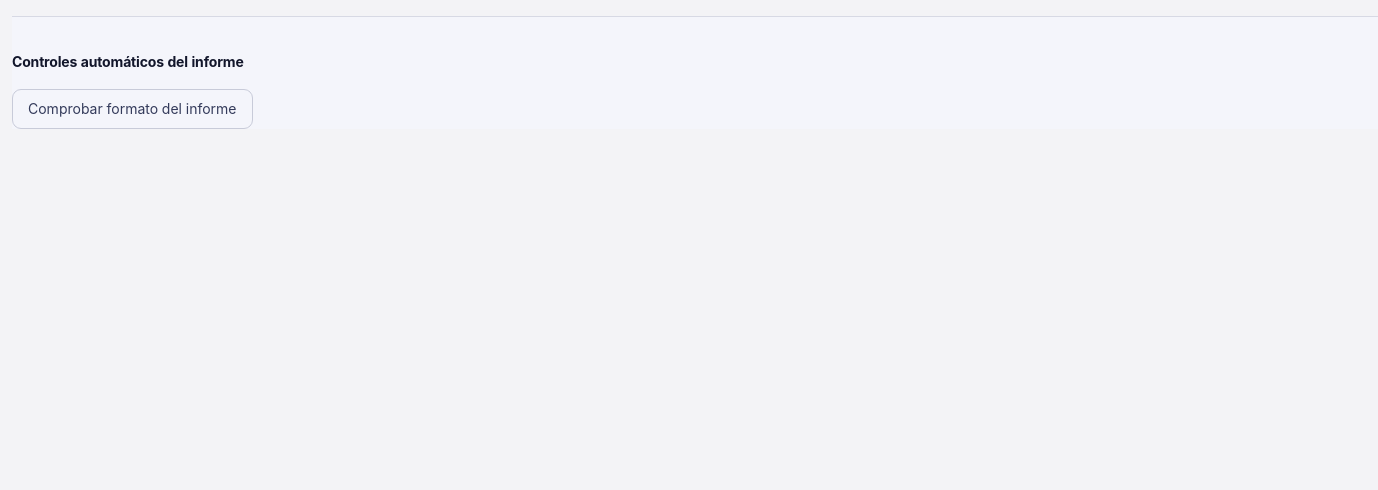
Test: documentary quality inspection › requires an explicit click and reads only the exact report endpoint
Click the button "Comprobar formato del informe" at [132, 109], box [12,89,252,129]
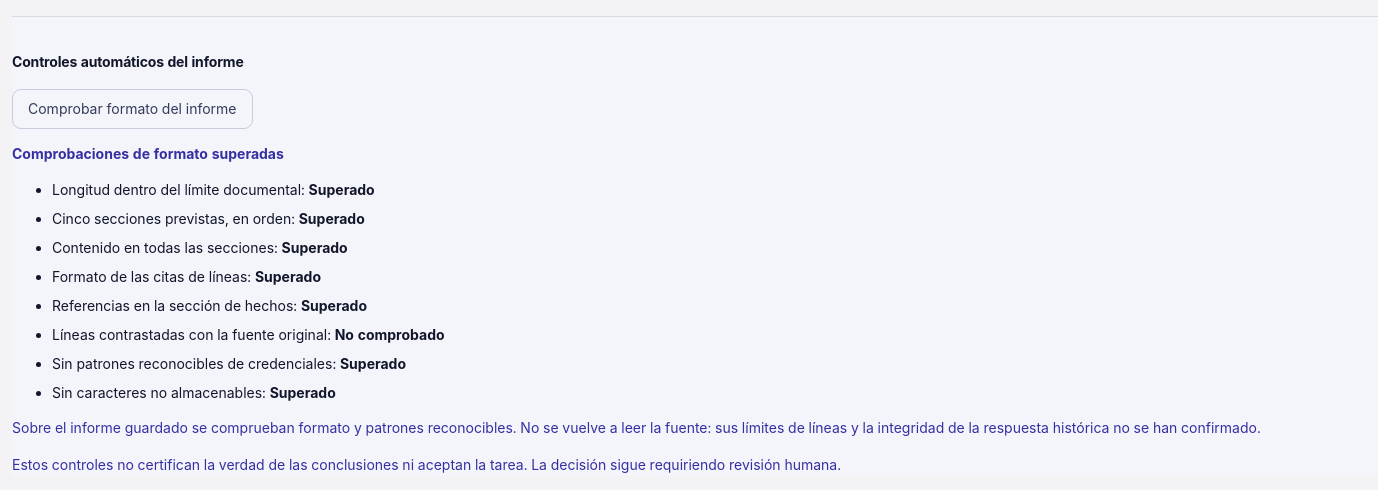
Expected: the text "Comprobaciones de formato superadas" is shown, [12,145,284,162]
Expected: the text "No se vuelve a leer la fuente" is shown, [12,419,1261,436]
Expected: the text "no certifican la verdad" is shown, [12,456,841,473]
